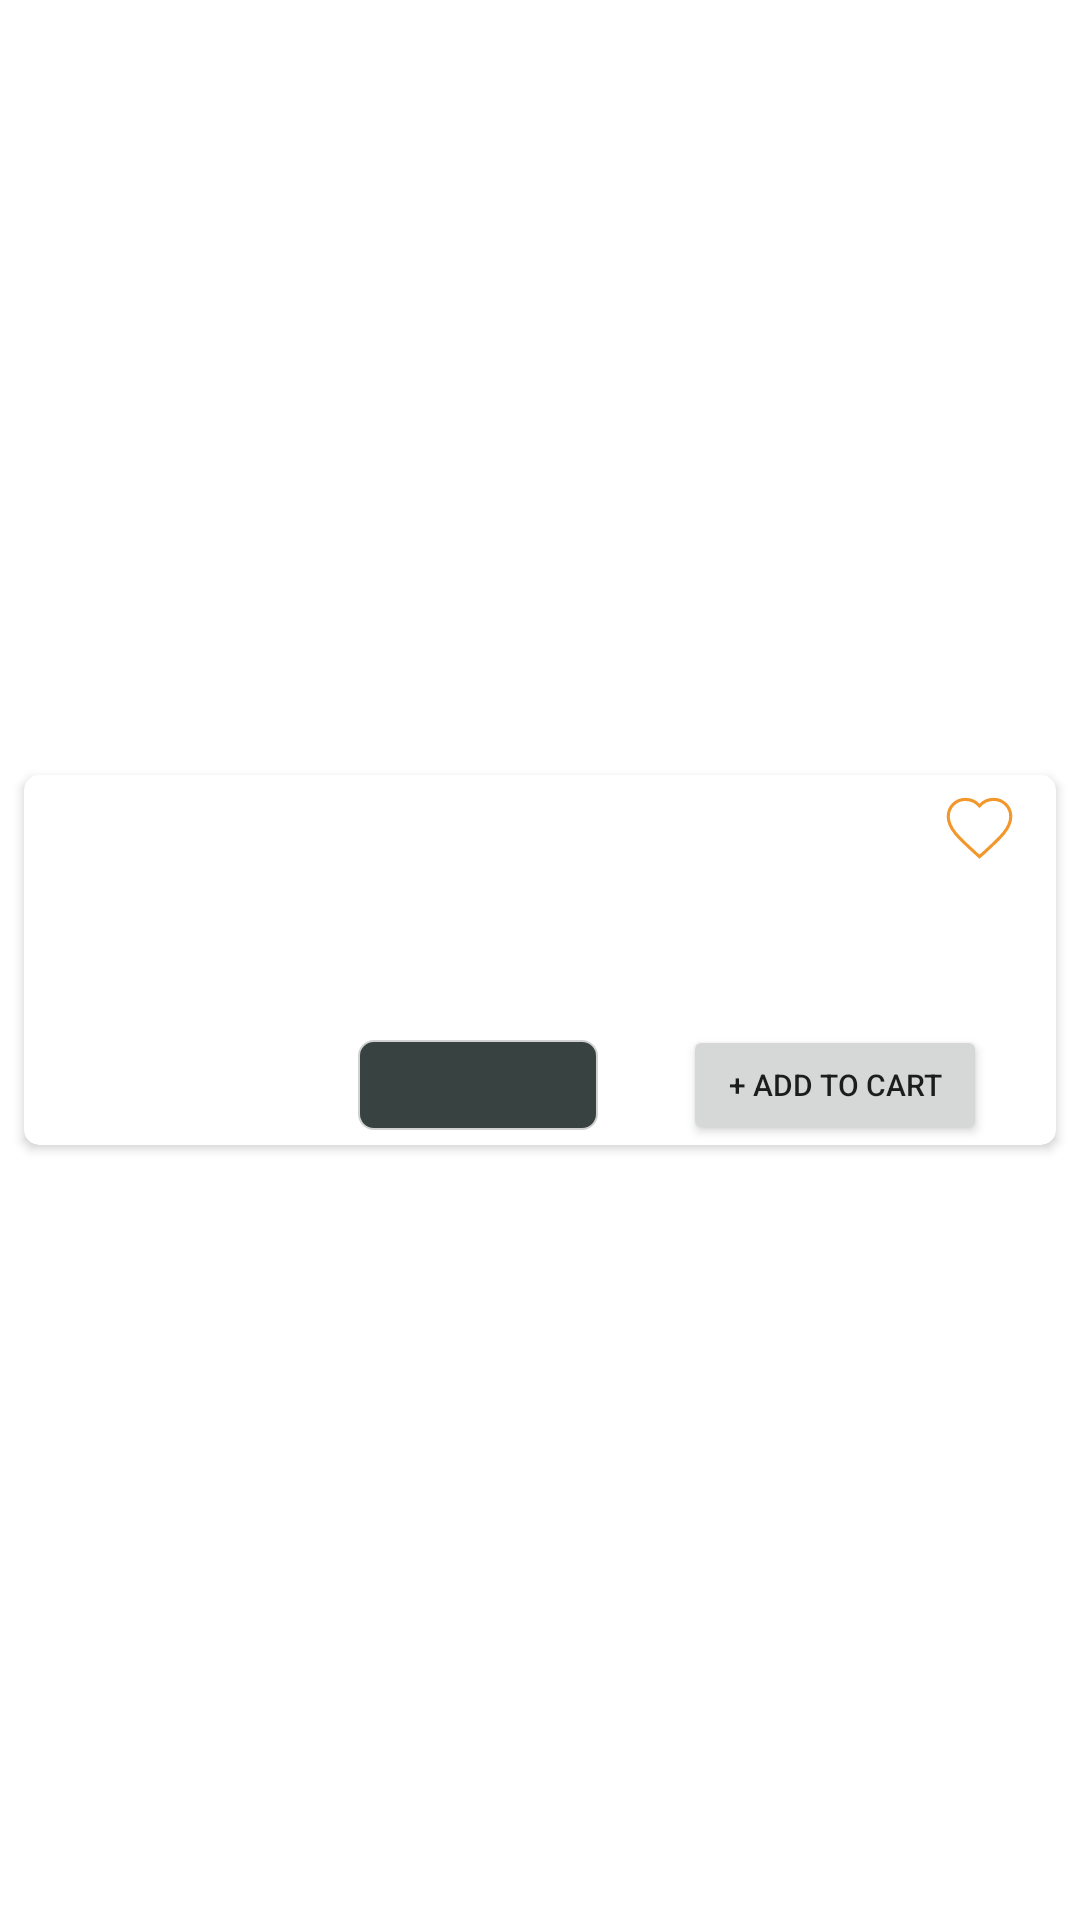

Icons on this 1080px x 1920px Android screen, each with the point to tap as (x,y):
heart: (979,828)
